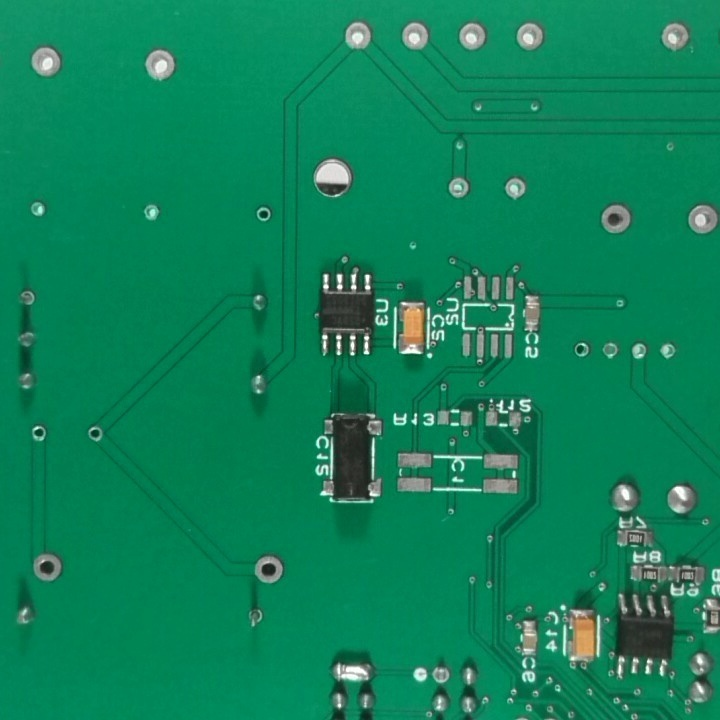F: (26, 550, 67, 589), (683, 195, 720, 237), (29, 43, 67, 83), (598, 198, 636, 238), (339, 19, 376, 59), (251, 549, 285, 592), (141, 45, 179, 83), (512, 16, 547, 55), (456, 20, 488, 55), (660, 20, 692, 55), (400, 21, 430, 56), (501, 173, 531, 204), (241, 603, 270, 631), (448, 176, 474, 205), (653, 340, 681, 364), (429, 663, 454, 689), (251, 205, 276, 229), (140, 201, 163, 227), (28, 423, 53, 446), (568, 337, 594, 359), (27, 201, 51, 223), (16, 287, 38, 310), (599, 339, 621, 360), (630, 340, 650, 363), (83, 424, 103, 444)
P: (329, 659, 381, 686)
